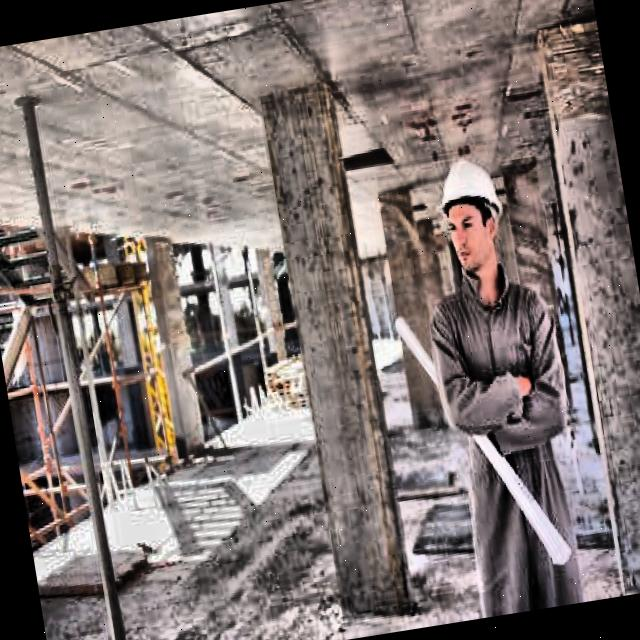helmet: (424, 144, 516, 284)
